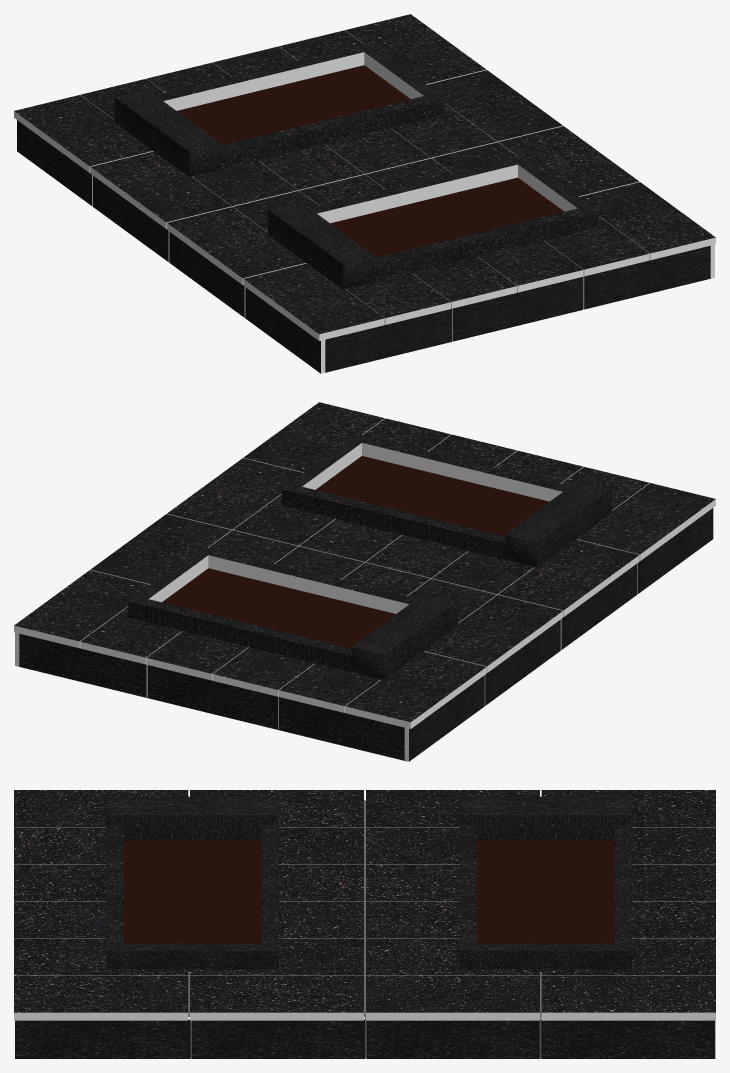
The model's file is Облицовка двойная [u_240_u].glb.
3 views of the same model, one above another, from view 1: azimuth 30°, elevation 25°; view 2: azimuth 150°, elevation 25°; view 3: azimuth 270°, elevation 25° (orthographic). The views are drawn at different scales.
Visible parts, largest first — view 1: Cube.091, Куб.170, Куб.168, Plane.005, Plane.001, Куб.175, Куб.171, Куб.172, Куб.176, Куб.178, Куб.174, Куб.173 (+1 smaller); view 2: Cube.091, Куб.169, Куб.168, Plane.005, Plane.001, Куб.175, Куб.171, Куб.174, Куб.178, Куб.176, Куб.172, Куб.173 (+1 smaller); view 3: Cube.091, Куб.163, Plane.001, Plane.005, Куб.175, Куб.171, Куб.173, Куб.177, Куб.172, Куб.174, Куб.176, Куб.178 (+1 smaller).
Boxes of the visible parts, <box> form: Cube.091: <box>14,14,715,340</box>; Куб.170: <box>325,245,710,372</box>; Куб.168: <box>17,120,325,373</box>; Plane.005: <box>177,65,410,145</box>; Plane.001: <box>330,177,563,257</box>; Куб.175: <box>114,89,221,176</box>; Куб.171: <box>268,201,374,289</box>; Куб.172: <box>374,208,585,281</box>; Куб.176: <box>221,96,431,168</box>; Куб.178: <box>156,46,364,110</box>; Куб.174: <box>309,159,517,223</box>; Куб.173: <box>511,156,598,229</box>; Cube.091: <box>14,402,715,728</box>; Куб.169: <box>19,634,404,760</box>; Куб.168: <box>404,508,713,761</box>; Plane.005: <box>162,568,395,648</box>; Plane.001: <box>315,456,549,535</box>; Куб.175: <box>351,592,458,679</box>; Куб.171: <box>505,480,611,567</box>; Куб.174: <box>294,486,505,559</box>; Куб.178: <box>141,599,351,672</box>; Куб.176: <box>208,550,416,613</box>; Куб.172: <box>362,437,569,501</box>; Куб.173: <box>281,434,368,508</box>; Cube.091: <box>14,790,715,1020</box>; Куб.163: <box>15,1017,715,1058</box>; Plane.001: <box>123,840,261,943</box>; Plane.005: <box>476,840,614,943</box>; Куб.175: <box>459,796,632,843</box>; Куб.171: <box>106,796,278,843</box>; Куб.173: <box>106,943,278,971</box>; Куб.177: <box>459,943,631,971</box>; Куб.172: <box>106,825,123,943</box>; Куб.174: <box>261,825,278,943</box>; Куб.176: <box>459,825,476,943</box>; Куб.178: <box>614,825,631,943</box>.
Bounding box in the file's own units: 1.83 × 0.2942 × 2.44.
5 materials, 2 textured.
